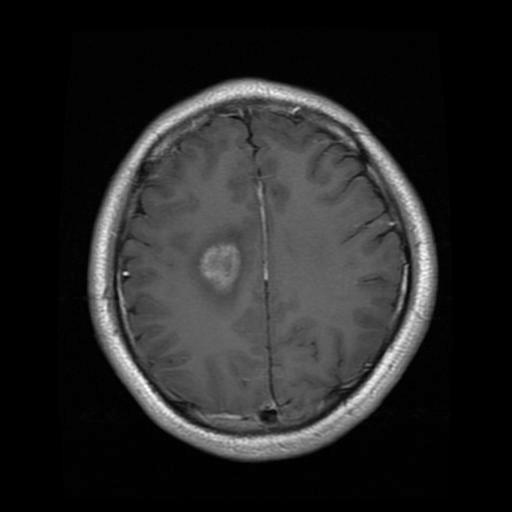Tumour-Glioma: (197, 232, 264, 304)
